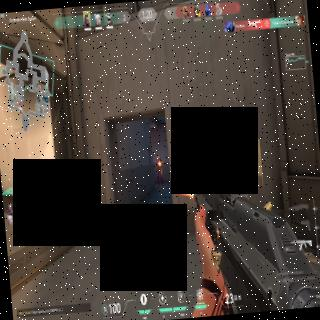ENEMY-BODY: (155, 156, 165, 190), (18, 101, 21, 107)
ENEMY-HEAD: (157, 156, 161, 162)
